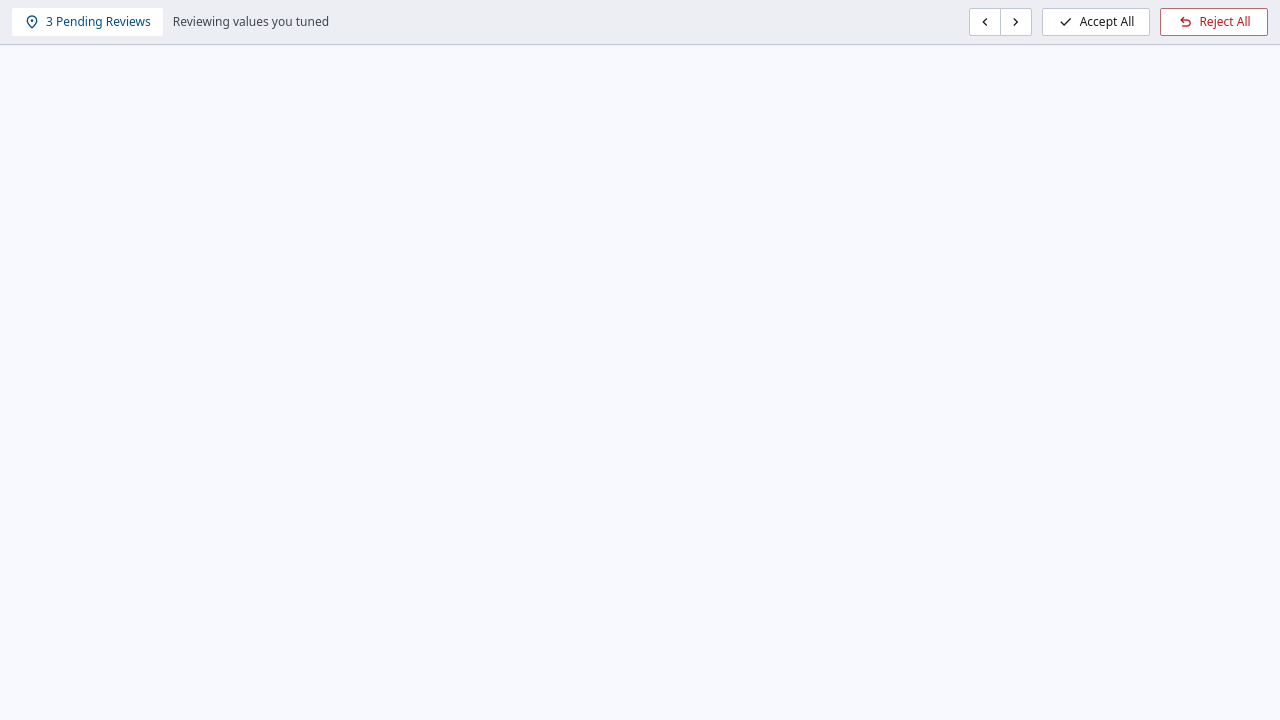
a tuned record reuses the bar without borrowing the agent's wording › keeps the tuned wording in the undo-all confirmation
The width and height of the screenshot is (1280, 720).
Click the button "Reject All": (1214, 22) [1160,8,1268,36]
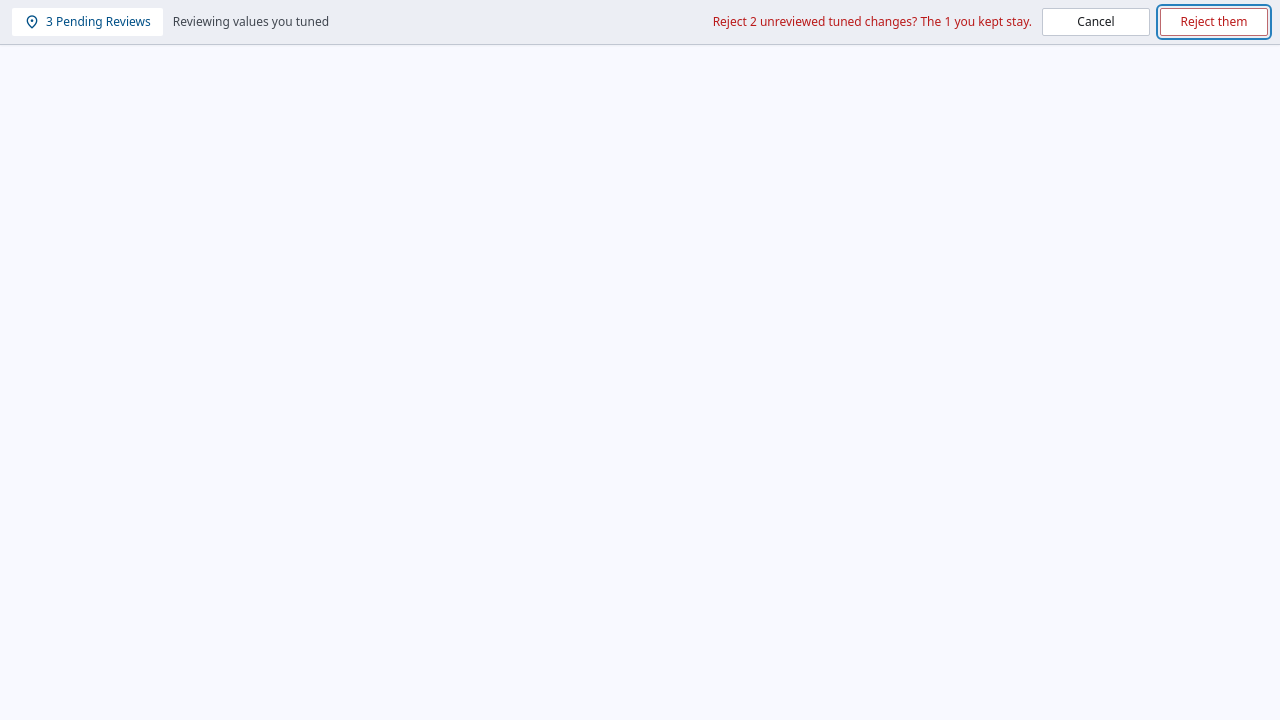
Now the text "Reject 2 unreviewed tuned changes? The 1 you kept stay." is shown, box [713,13,1032,31]
